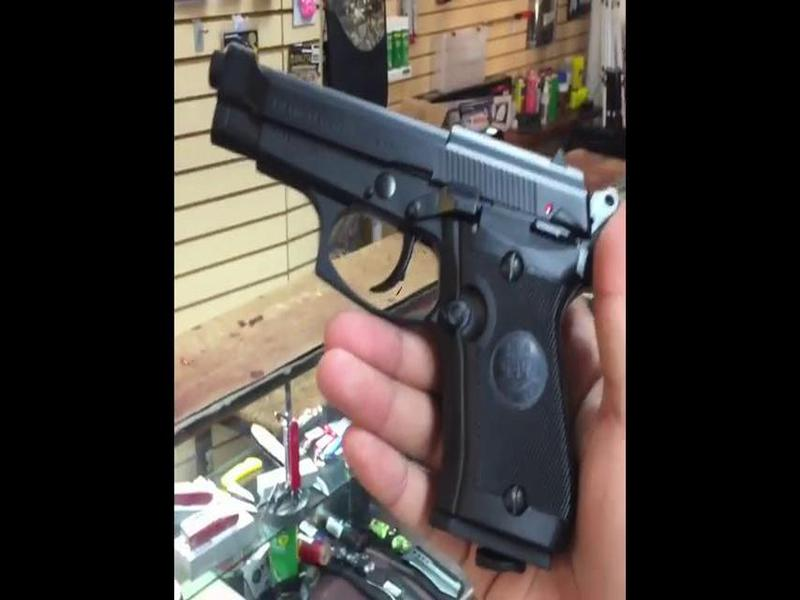Pistola: (200, 19, 617, 572)
